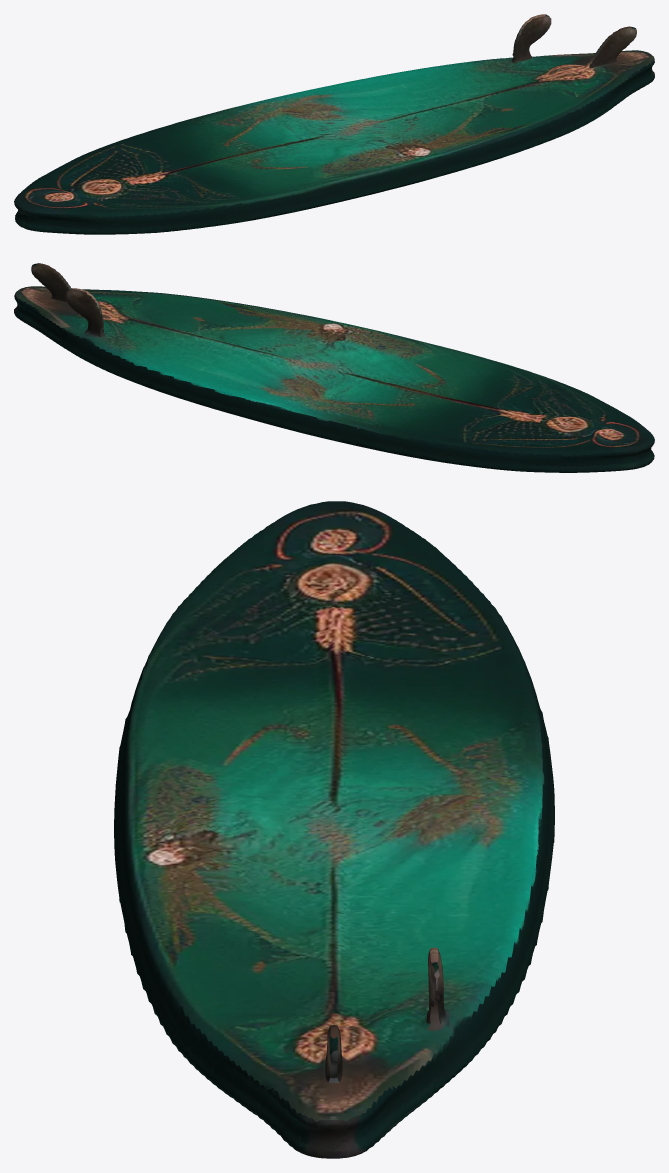
The model's file is hoverboard.glb.
3 renders of one model, top to bottom at view 1: azimuth 30°, elevation 25°; view 2: azimuth 150°, elevation 25°; view 3: azimuth 270°, elevation 25°, orthographic. The views are drawn at different scales.
Parts seen in each view (by area): view 1: tmp_5zrs49_.ply; view 2: tmp_5zrs49_.ply; view 3: tmp_5zrs49_.ply.
Boxes of the visible parts, left/top/right/bottom form: tmp_5zrs49_.ply: left=14, top=14, right=654, bottom=234; tmp_5zrs49_.ply: left=14, top=263, right=654, bottom=472; tmp_5zrs49_.ply: left=114, top=501, right=554, bottom=1158.
Bounding box in the file's own units: 0.9862 × 0.0933 × 0.298.
1 material, 1 textured.
